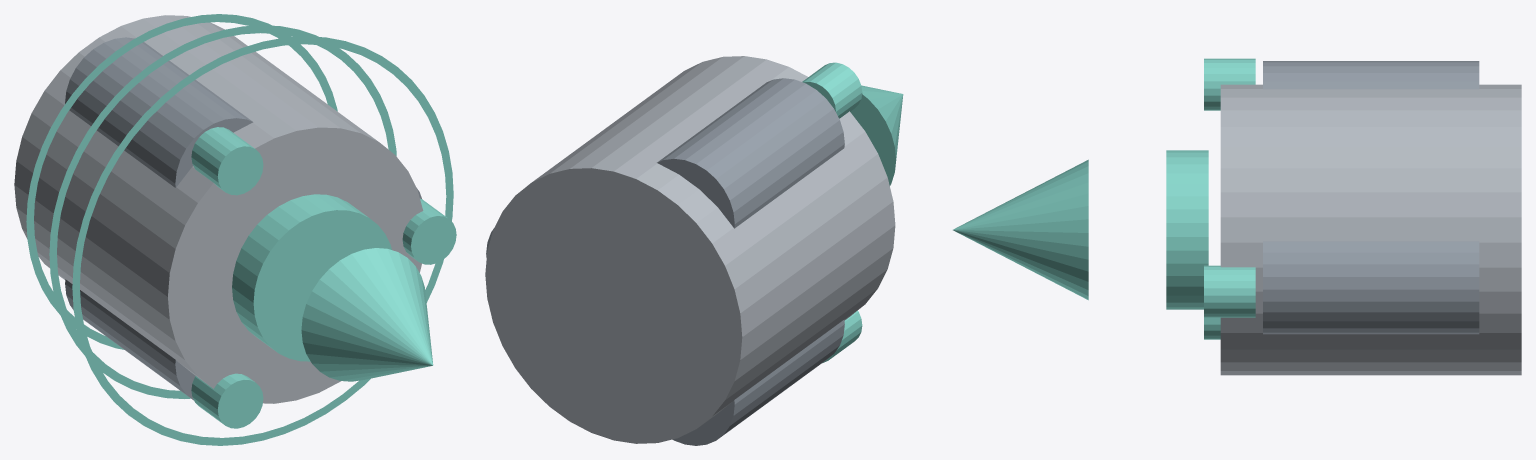
Rendered from thr-1.glb.
3 renders of one model, left to right at view 1: azimuth 30°, elevation 25°; view 2: azimuth 150°, elevation 25°; view 3: azimuth 270°, elevation 25°, orthographic.
Visible parts, largest first — view 1: part000, part009, part002, part005, part012, part011, part010, part006, part007, part008, part004; view 2: part000, part005, part007, part009, part006, part008; view 3: part000, part003, part009, part002, part005, part004, part006.
Part boxes in pixels (<box>): part000: <box>14,15,423,403</box>; part009: <box>301,248,433,381</box>; part002: <box>232,194,391,361</box>; part005: <box>65,37,253,187</box>; part012: <box>72,36,453,445</box>; part011: <box>49,25,396,398</box>; part010: <box>26,14,337,349</box>; part006: <box>191,127,263,195</box>; part007: <box>65,279,195,400</box>; part008: <box>191,373,263,428</box>; part004: <box>402,198,456,264</box>; part000: <box>485,56,895,443</box>; part005: <box>657,78,844,228</box>; part007: <box>672,320,844,445</box>; part009: <box>850,85,903,185</box>; part006: <box>802,62,862,118</box>; part008: <box>822,310,862,363</box>; part000: <box>1220,84,1521,375</box>; part003: <box>1263,241,1479,334</box>; part009: <box>953,159,1088,300</box>; part002: <box>1166,150,1208,309</box>; part005: <box>1263,61,1479,89</box>; part004: <box>1204,265,1255,317</box>; part006: <box>1204,58,1255,110</box>.
Bounding box in the file's own units: 1.84 × 1.84 × 2.42.
